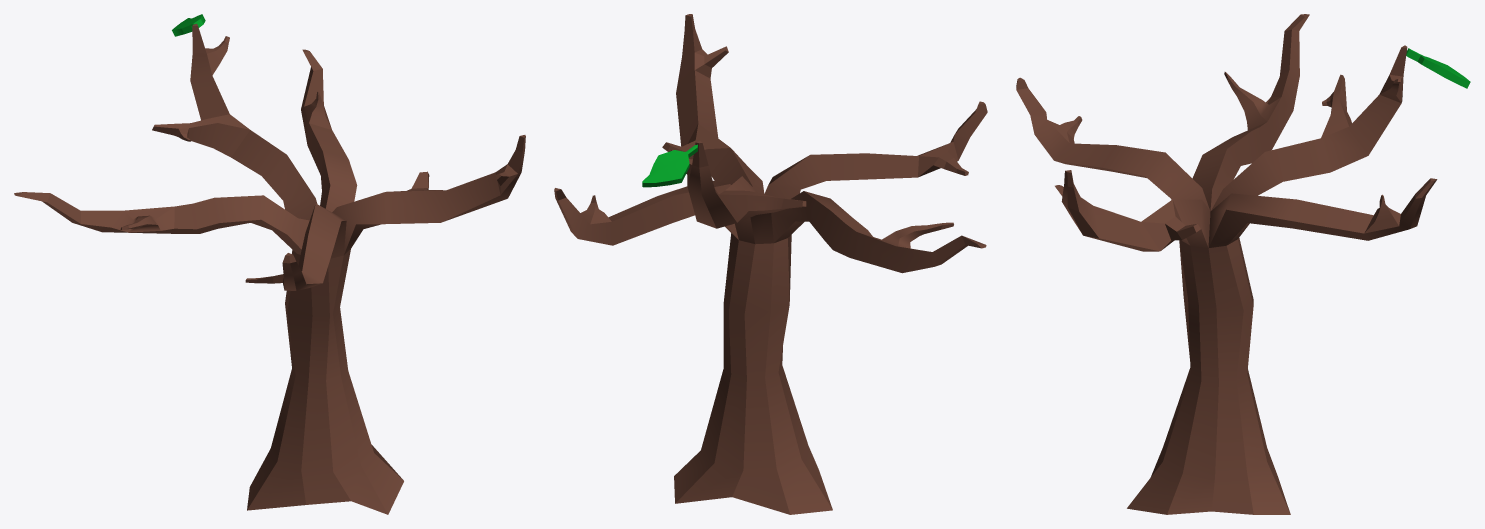
The model's file is TreeLeaf.fbx.
3 renders of one model, left to right at view 1: azimuth 30°, elevation 25°; view 2: azimuth 150°, elevation 25°; view 3: azimuth 270°, elevation 25°, orthographic. The views are drawn at different scales.
Parts seen in each view (by area): view 1: polySurface1; view 2: polySurface1, pCube1; view 3: polySurface1, pCube1.
Part boxes in pixels (box(x1,y1,x2,y2)): polySurface1: box(14, 23, 525, 514); polySurface1: box(554, 14, 987, 514); pCube1: box(642, 144, 697, 187); polySurface1: box(1016, 14, 1437, 514); pCube1: box(1406, 48, 1470, 88).
Size of the model in its own units: 13.37 by 13.12 by 12.49.
